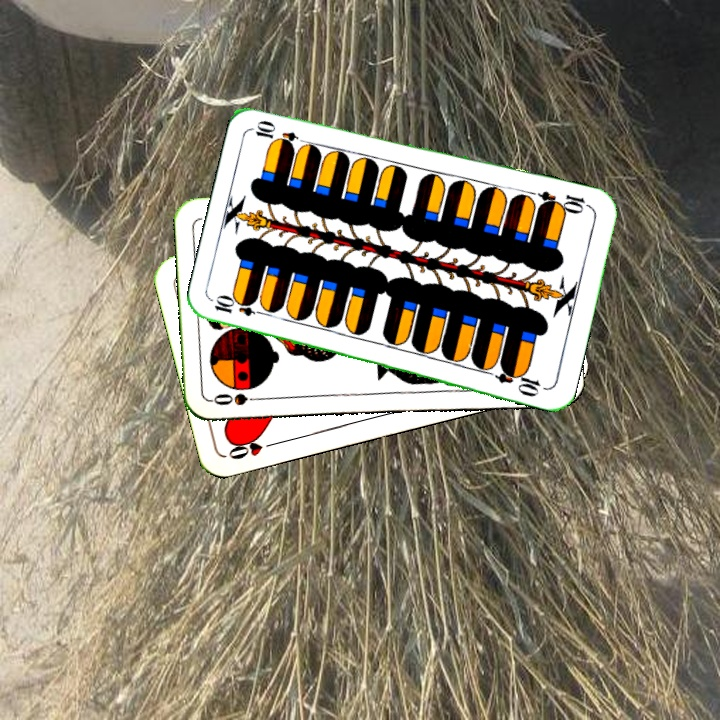E10: (535, 186, 593, 217), (210, 294, 270, 319)
HO: (224, 432, 282, 462)
SO: (209, 389, 268, 408)
